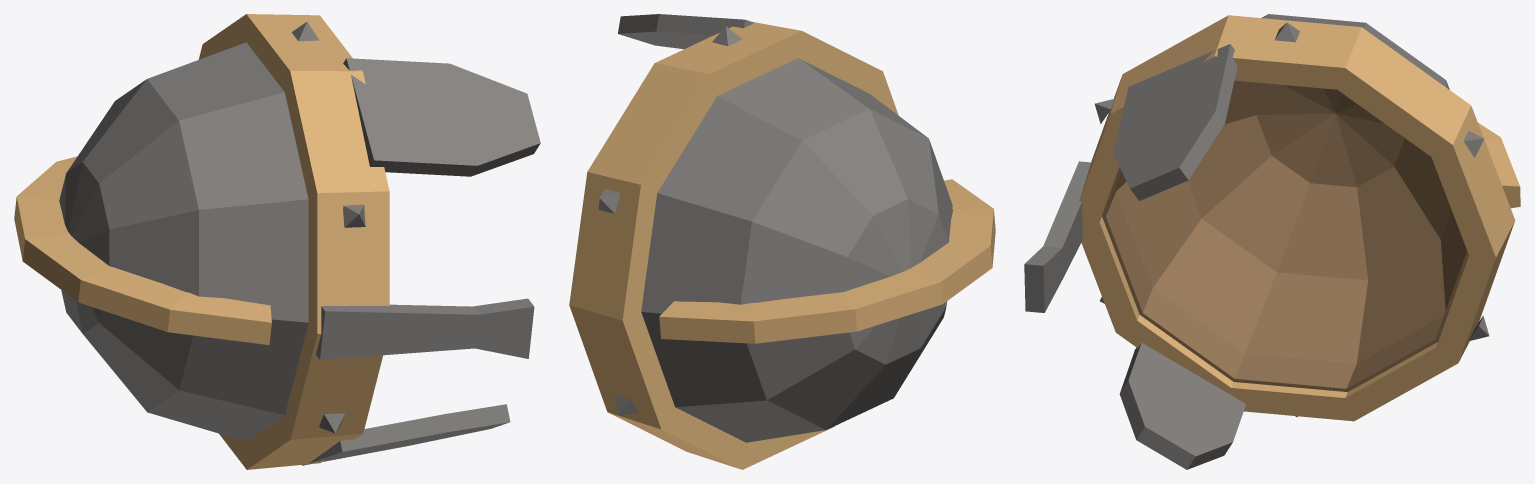
File: it-helm.glb
3 renders of one model, left to right at view 1: azimuth 30°, elevation 25°; view 2: azimuth 150°, elevation 25°; view 3: azimuth 270°, elevation 25°, orthographic. The views are drawn at different scales.
Visible parts, largest first — view 1: dome, brow_band, cheek_plate_l, crest, nose_guard, cheek_plate_r, band_rivets; view 2: dome, brow_band, crest, cheek_plate_l, band_rivets; view 3: dome, brow_band, cheek_plate_l, cheek_plate_r, nose_guard, crest, band_rivets.
Boxes of the visible parts, <box> form: dome: <box>59,42,308,441</box>; brow_band: <box>199,14,389,469</box>; cheek_plate_l: <box>343,58,540,176</box>; crest: <box>14,156,271,344</box>; nose_guard: <box>316,298,534,359</box>; cheek_plate_r: <box>302,404,510,465</box>; band_rivets: <box>291,22,365,433</box>; dome: <box>641,58,952,442</box>; brow_band: <box>569,22,898,469</box>; crest: <box>659,179,995,343</box>; cheek_plate_l: <box>618,14,754,49</box>; band_rivets: <box>598,26,742,415</box>; dome: <box>1102,14,1468,391</box>; brow_band: <box>1079,15,1515,421</box>; cheek_plate_l: <box>1113,44,1237,200</box>; cheek_plate_r: <box>1119,342,1245,469</box>; nose_guard: <box>1024,161,1090,312</box>; crest: <box>1478,123,1520,208</box>; band_rivets: <box>1094,22,1489,416</box>.
Size of what is drawn, in the model's own units: 0.219 by 0.2164 by 0.2346.
